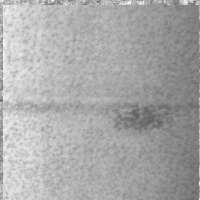crazing: (1, 5, 88, 131), (123, 87, 199, 200), (83, 2, 198, 69)
pitted_surface: (3, 5, 199, 200)
